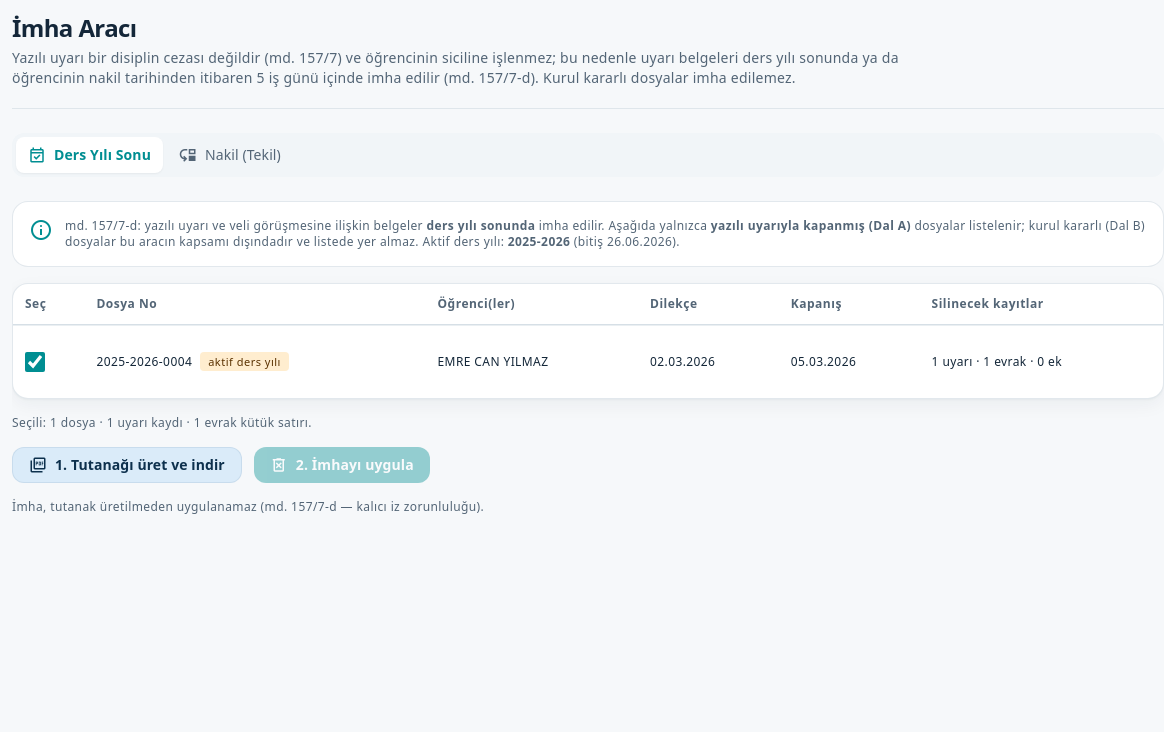
Scenario: ImhaPage — nakil (tekil) › nakil tarihine göre +5 iş günü son gününü gösterir
Expected: the text "2025-2026-0004" is shown, [96,353,192,370]
Click the tab "Nakil (Tekil)": [230, 155] box [167,137,293,173]
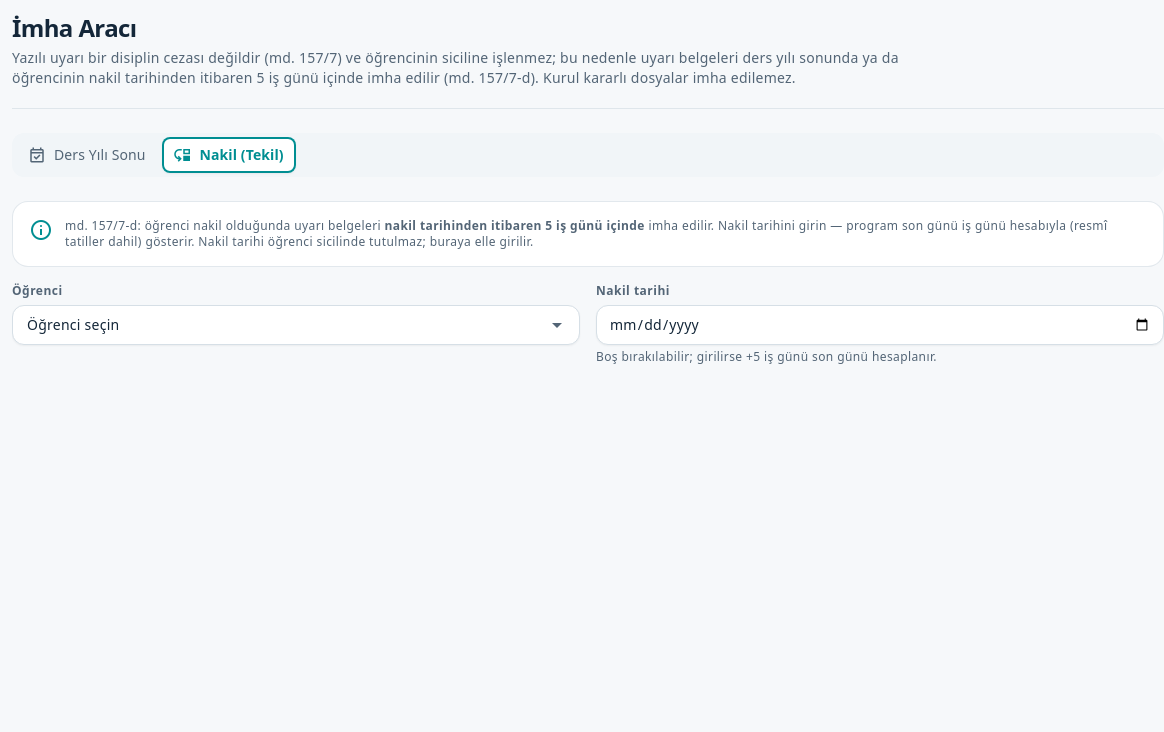
Select "EMRE CAN YILMAZ — 10/A (1 uyarı)" in the dropdown labelled "Öğrenci": [284, 325] box [23,315,545,335]
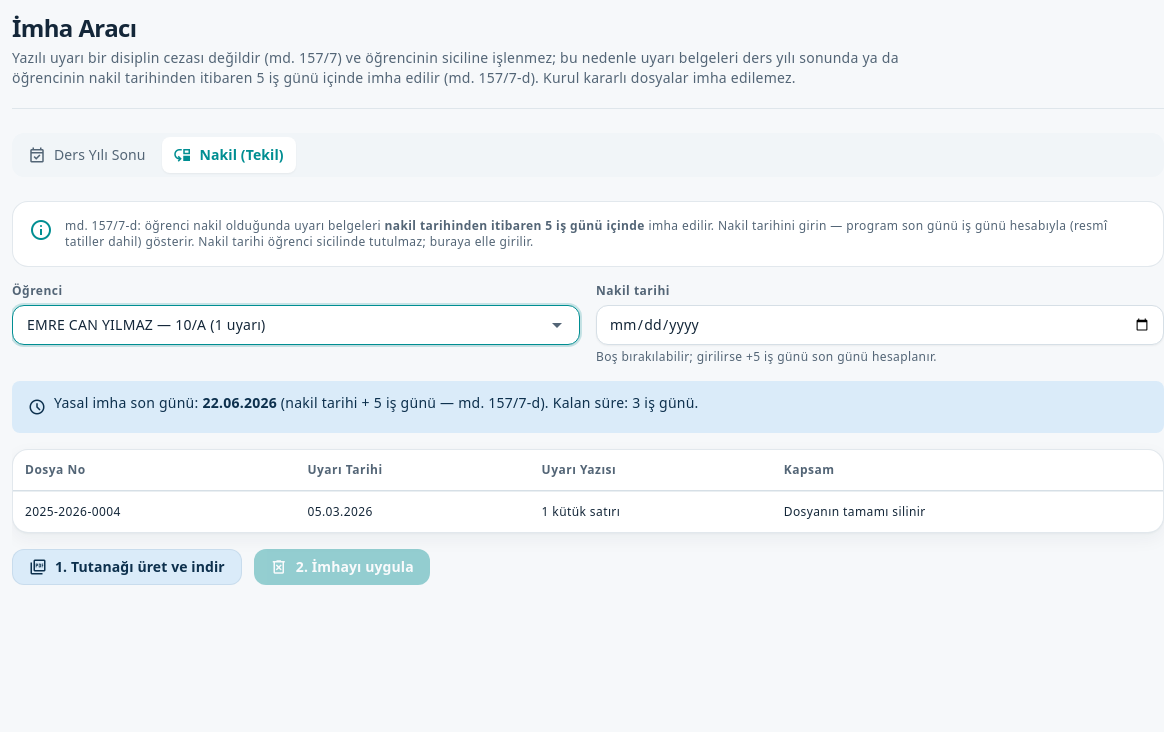
Result: the text "Yasal imha son günü" is shown at [54,393,202,412]
Result: the text "22.06.2026" is shown at [202,393,277,412]
Result: the text "Kalan süre: 3 iş günü" is shown at [553,393,699,412]
